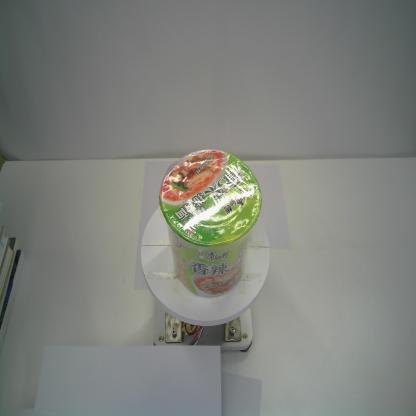Instant Noodles: (158, 148, 262, 298)
